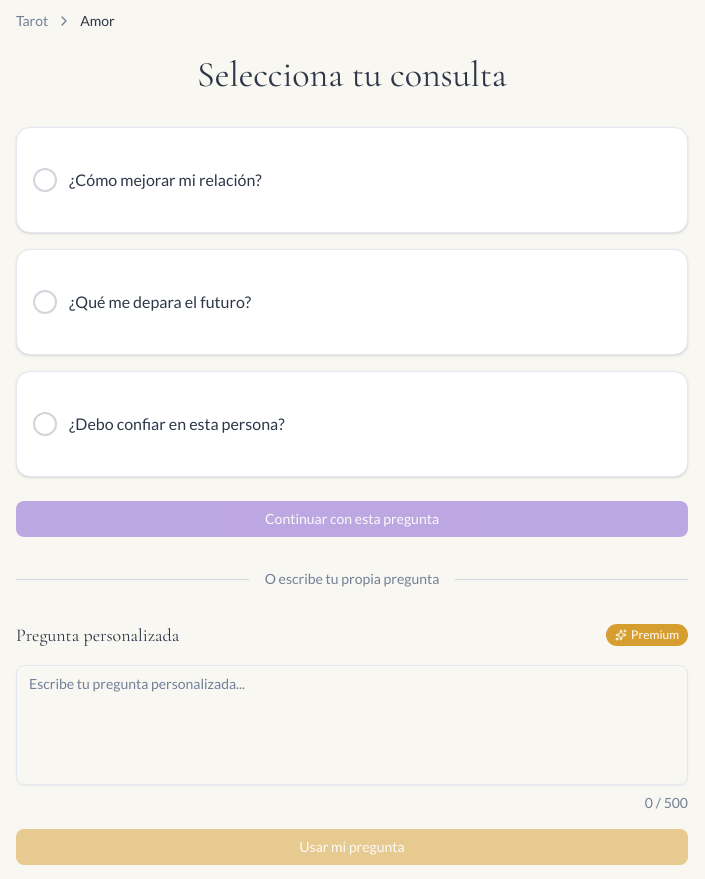
Test: QuestionSelector › Existing Functionality (not broken) › should allow PREMIUM users to type custom question
Type "Mi pregunta personalizada" into the text box with placeholder "Escribe tu pregunta personalizada..." at [352, 725], box [16,665,688,785]
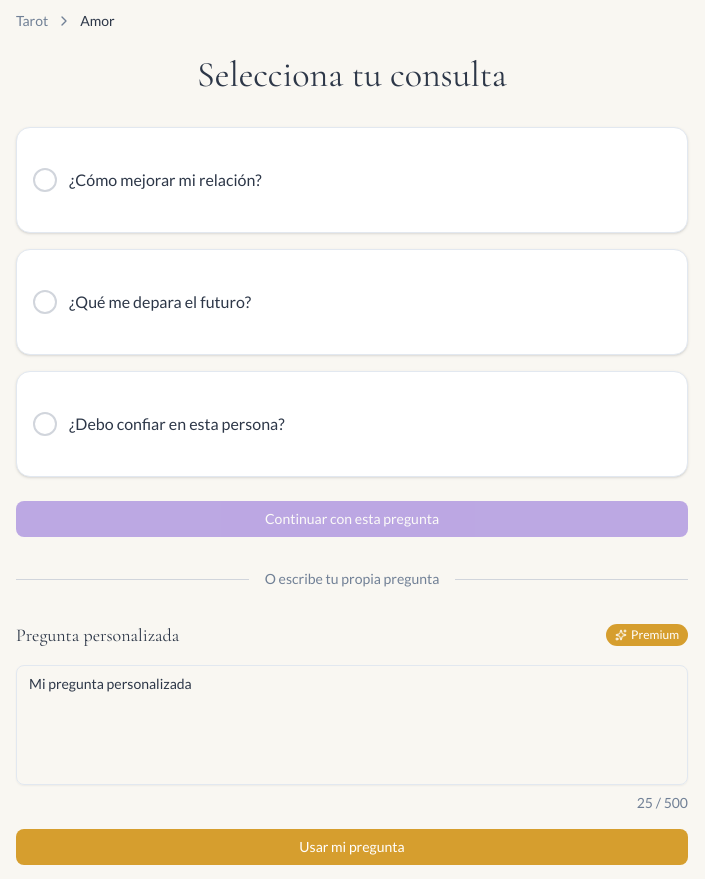
Expected: the button "Usar mi pregunta" is enabled, [16,829,688,865]
